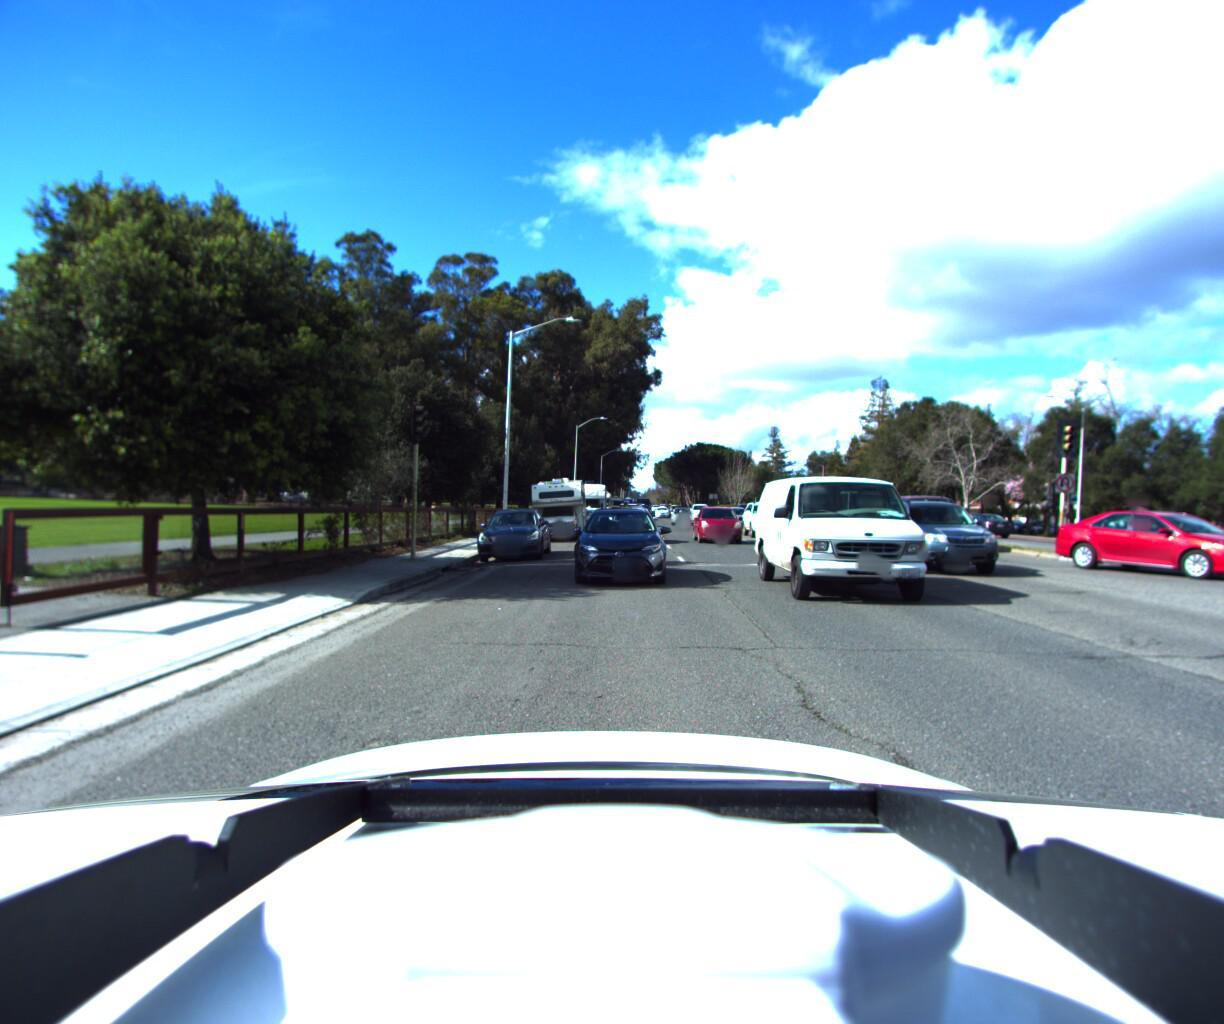bus: (589, 492, 617, 524)
car: (756, 464, 978, 626), (881, 497, 1038, 585), (1070, 514, 1224, 594), (573, 505, 676, 600), (872, 497, 997, 562), (479, 511, 557, 570), (694, 503, 754, 552), (743, 504, 796, 546), (609, 504, 655, 547), (952, 513, 1009, 543), (671, 507, 698, 528)
other_vehicle: (526, 476, 594, 546), (568, 485, 612, 532)
